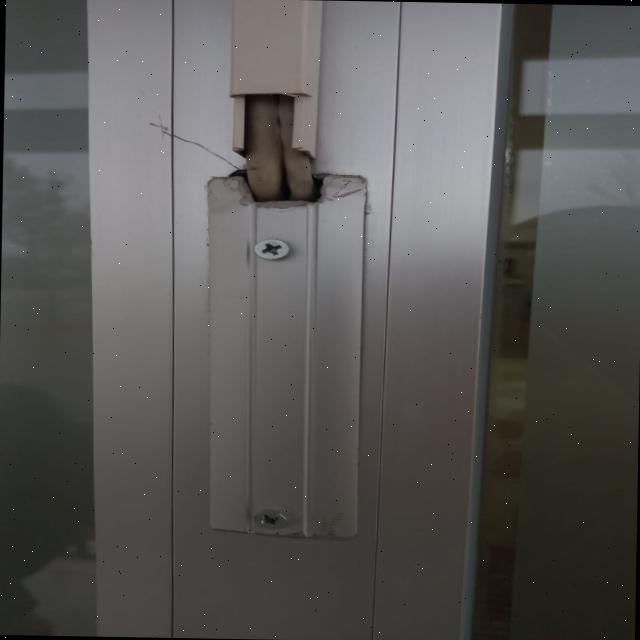Phillips: (243, 508, 304, 538), (244, 237, 301, 264)
